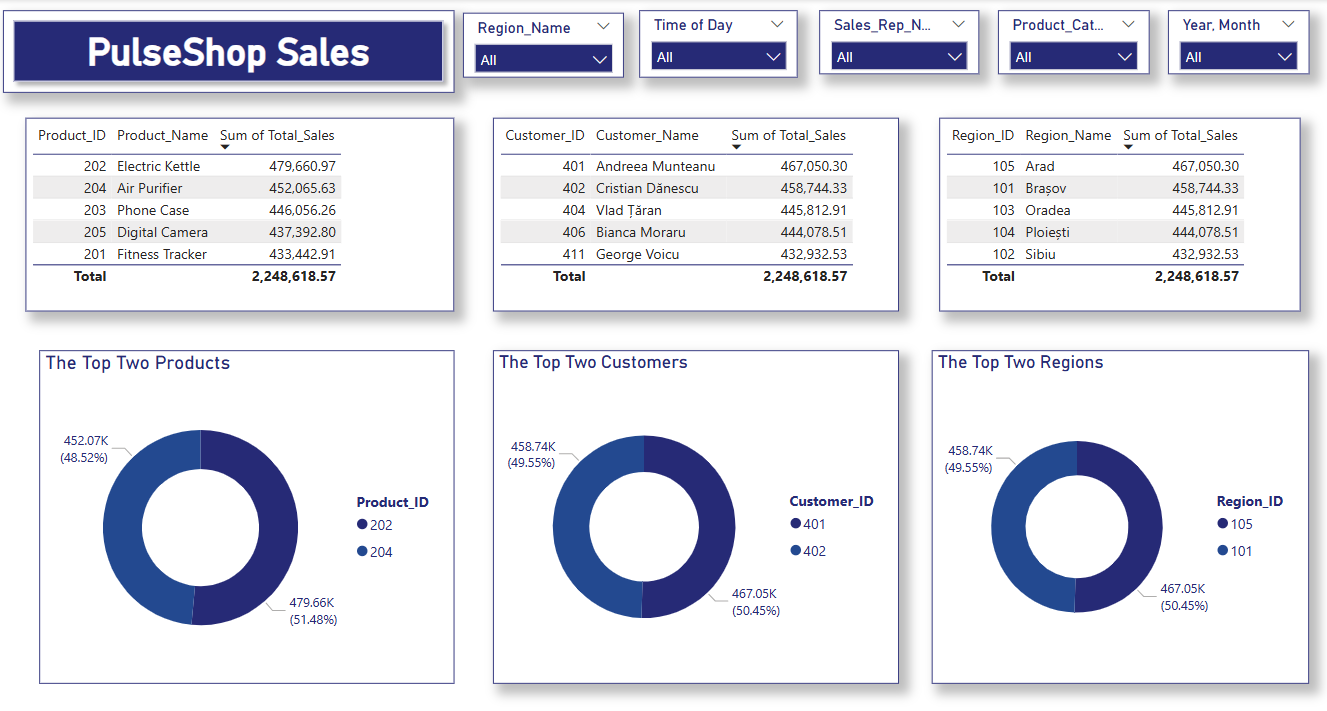

This screenshot's page, from the dashboard's own definition file:
{"tool":"powerbi","page":{"name":"Top Products, Regions, and Customers","canvas":[1280,720],"ordinal":1},"visuals":[{"type":"shape","box":[14.2,10.7,428.6,78.4],"z":0},{"type":"slicer","fields":{"Values":["Regions.Region_Name"]},"box":[451.2,13.1,153.2,61.7],"z":1},{"type":"slicer","fields":{"Values":["Orders.Time of Day"]},"box":[618.6,10.7,150.8,64.1],"z":2},{"type":"slicer","fields":{"Values":["Sales_Reps.Sales_Rep_Name"]},"box":[789.6,10.7,152,60.6],"z":3},{"type":"slicer","fields":{"Values":["Products.Product_Category"]},"box":[959.4,10.7,143.7,60.6],"z":4},{"type":"slicer","fields":{"Values":["Date_Table.Year","Date_Table.Month"]},"box":[1120.9,10.7,134.2,60.6],"z":5},{"type":"donutChart","title":"The Top Two Products ","fields":{"Category":["Products.Product_ID"],"Y":["Orders.Total_Sales"]},"box":[48.7,333.6,394.2,317],"z":6},{"type":"donutChart","title":"The Top Two Customers ","fields":{"Y":["Orders.Total_Sales"],"Category":["Customers.Customer_ID"]},"box":[479.7,333.6,385.9,317],"z":7},{"type":"donutChart","title":"The Top Two Regions ","fields":{"Category":["Regions.Region_ID"],"Y":["Orders.Total_Sales"]},"box":[896.5,333.6,358.6,317],"z":8},{"type":"tableEx","fields":{"Values":["Customers.Customer_ID","Customers.Customer_Name","Orders.Total_Sales"]},"box":[479.7,112.8,385.9,184],"z":9},{"type":"tableEx","fields":{"Values":["Regions.Region_ID","Regions.Region_Name","Orders.Total_Sales"]},"box":[903.6,112.8,343.1,184],"z":10},{"type":"tableEx","fields":{"Values":["Products.Product_ID","Products.Product_Name","Orders.Total_Sales"]},"box":[35.6,112.8,407.3,184],"z":11}]}

Visuals, with their boxes on the page's 1280x720 design canvas (x1, y1, x2, y2). These are canvas units, not pixel positions in the 1327x711 screenshot, which may show the page scaled, cropped or inside an application window:
shape: pyautogui.locateOnScreen(14, 11, 443, 89)
slicer - Regions.Region_Name: pyautogui.locateOnScreen(451, 13, 604, 75)
slicer - Orders.Time of Day: pyautogui.locateOnScreen(619, 11, 769, 75)
slicer - Sales_Reps.Sales_Rep_Name: pyautogui.locateOnScreen(790, 11, 942, 71)
slicer - Products.Product_Category: pyautogui.locateOnScreen(959, 11, 1103, 71)
slicer - Date_Table.Year x Date_Table.Month: pyautogui.locateOnScreen(1121, 11, 1255, 71)
"The Top Two Products " donutChart: pyautogui.locateOnScreen(49, 334, 443, 651)
"The Top Two Customers " donutChart: pyautogui.locateOnScreen(480, 334, 866, 651)
"The Top Two Regions " donutChart: pyautogui.locateOnScreen(896, 334, 1255, 651)
tableEx - Customers.Customer_ID x Customers.Customer_Name: pyautogui.locateOnScreen(480, 113, 866, 297)
tableEx - Regions.Region_ID x Regions.Region_Name: pyautogui.locateOnScreen(904, 113, 1247, 297)
tableEx - Products.Product_ID x Products.Product_Name: pyautogui.locateOnScreen(36, 113, 443, 297)
